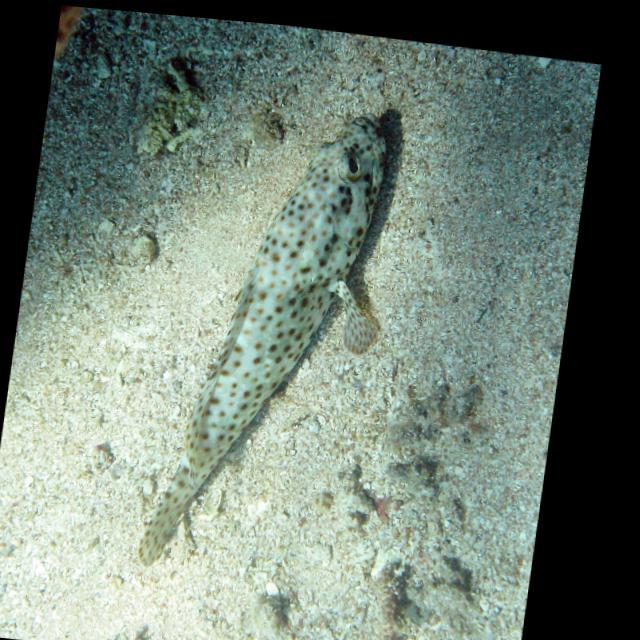Groupers: (131, 85, 412, 596)
